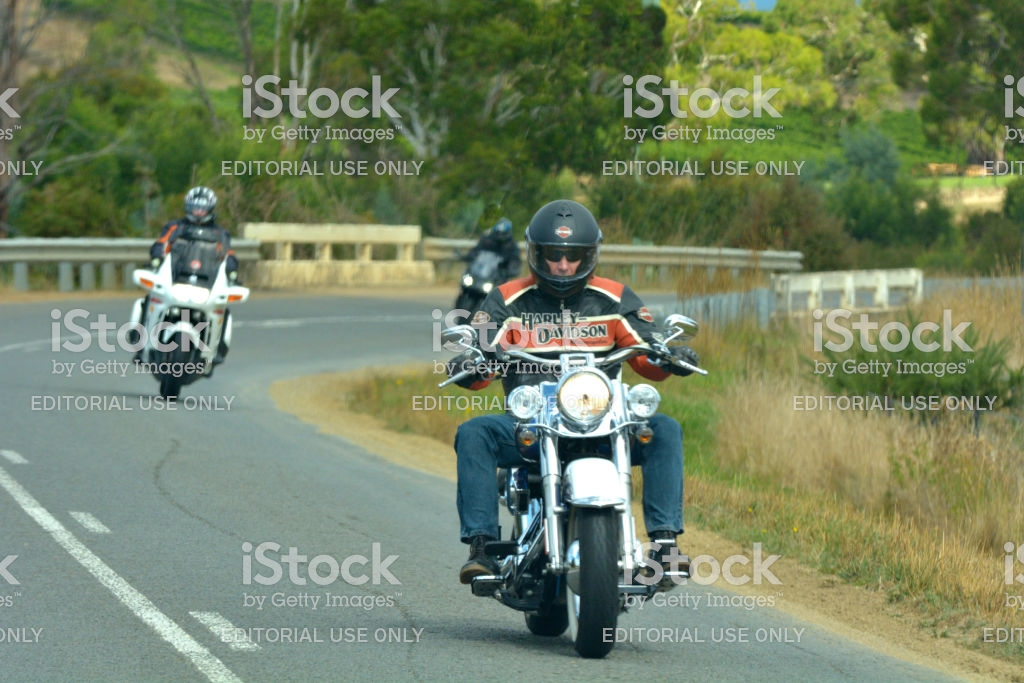helmet: (521, 202, 608, 291), (184, 188, 217, 224)
